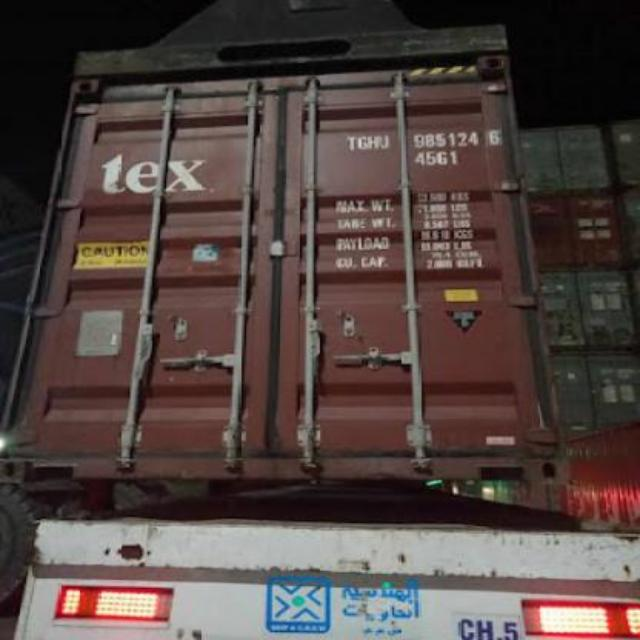1: (448, 132, 458, 146)
2: (458, 132, 470, 146)
4: (470, 132, 480, 146)
5: (436, 132, 448, 146)
6: (490, 130, 502, 142)
8: (424, 134, 436, 146)
9: (412, 132, 426, 146)
G: (356, 135, 369, 151)
H: (368, 136, 380, 148)
T: (346, 136, 358, 148)
U: (380, 136, 390, 148)
